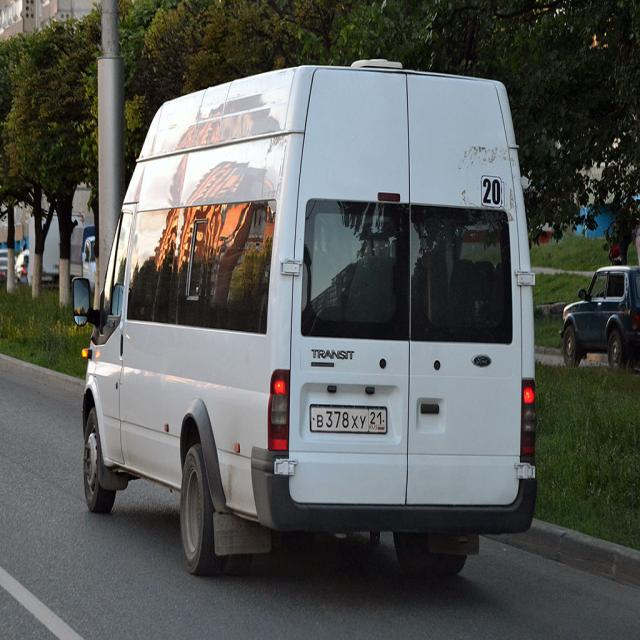number-of-bus: (483, 177, 504, 209)
